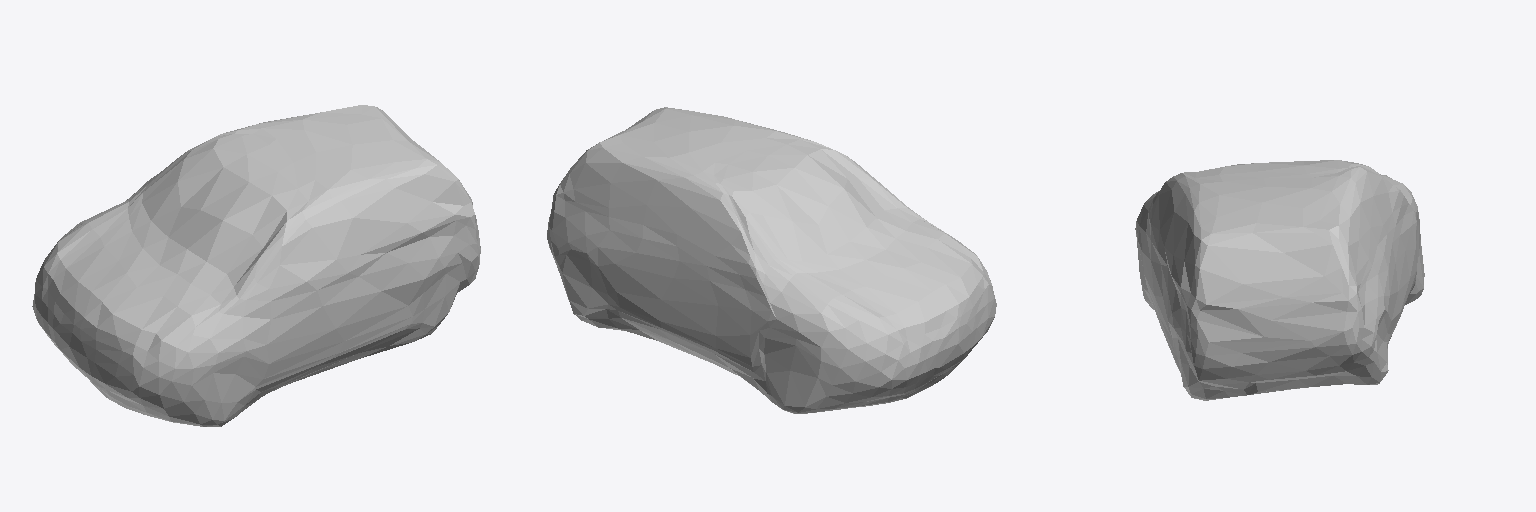
Rendered from video3_321.obj.
The picture shows the model from 3 angles: view 1: azimuth 30°, elevation 25°; view 2: azimuth 150°, elevation 25°; view 3: azimuth 270°, elevation 25°; orthographic projection.
Bounding box in the file's own units: 1 × 0.5058 × 0.6647.